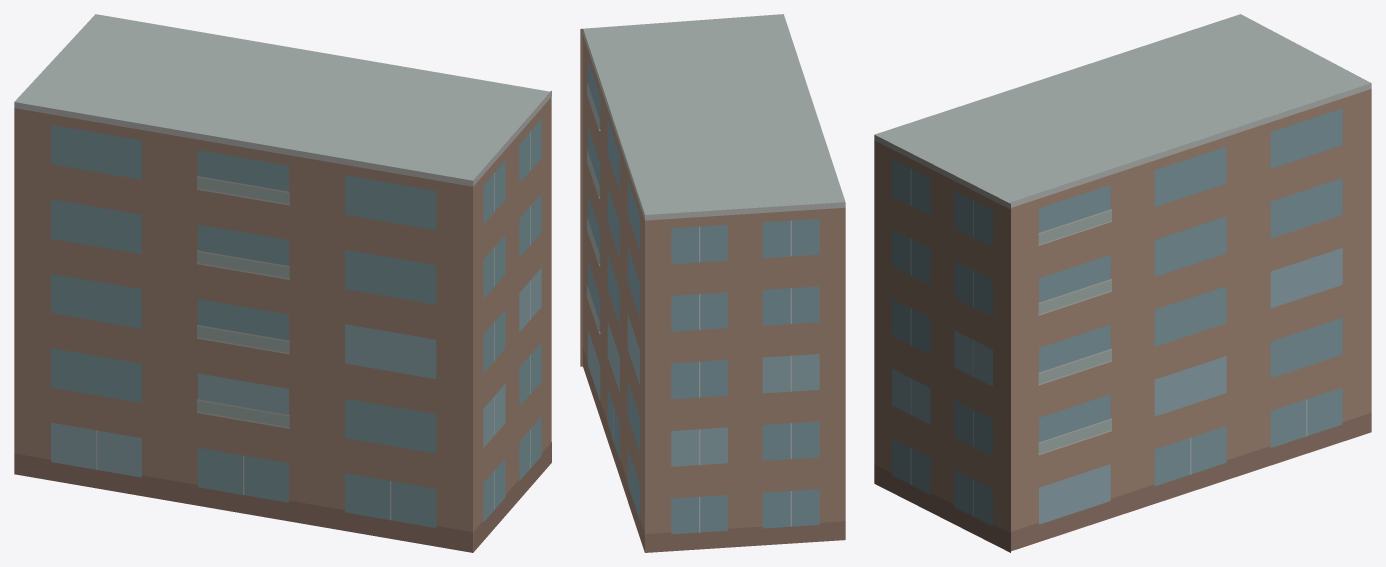
The model's file is survey-upis-32998052.glb.
3 views of the same model, side by side, from view 1: azimuth 30°, elevation 25°; view 2: azimuth 150°, elevation 25°; view 3: azimuth 270°, elevation 25° (orthographic). The views are drawn at different scales.
Parts seen in each view (by area): view 1: survey-upis-32998052.tmp; view 2: survey-upis-32998052.tmp; view 3: survey-upis-32998052.tmp.
Boxes of the visible parts, box(x1,y1,x2,y2) form: survey-upis-32998052.tmp: box(14, 14, 551, 552); survey-upis-32998052.tmp: box(580, 14, 845, 552); survey-upis-32998052.tmp: box(874, 14, 1371, 552).
Size of the model in its own units: 17.45 by 14.95 by 19.31.
